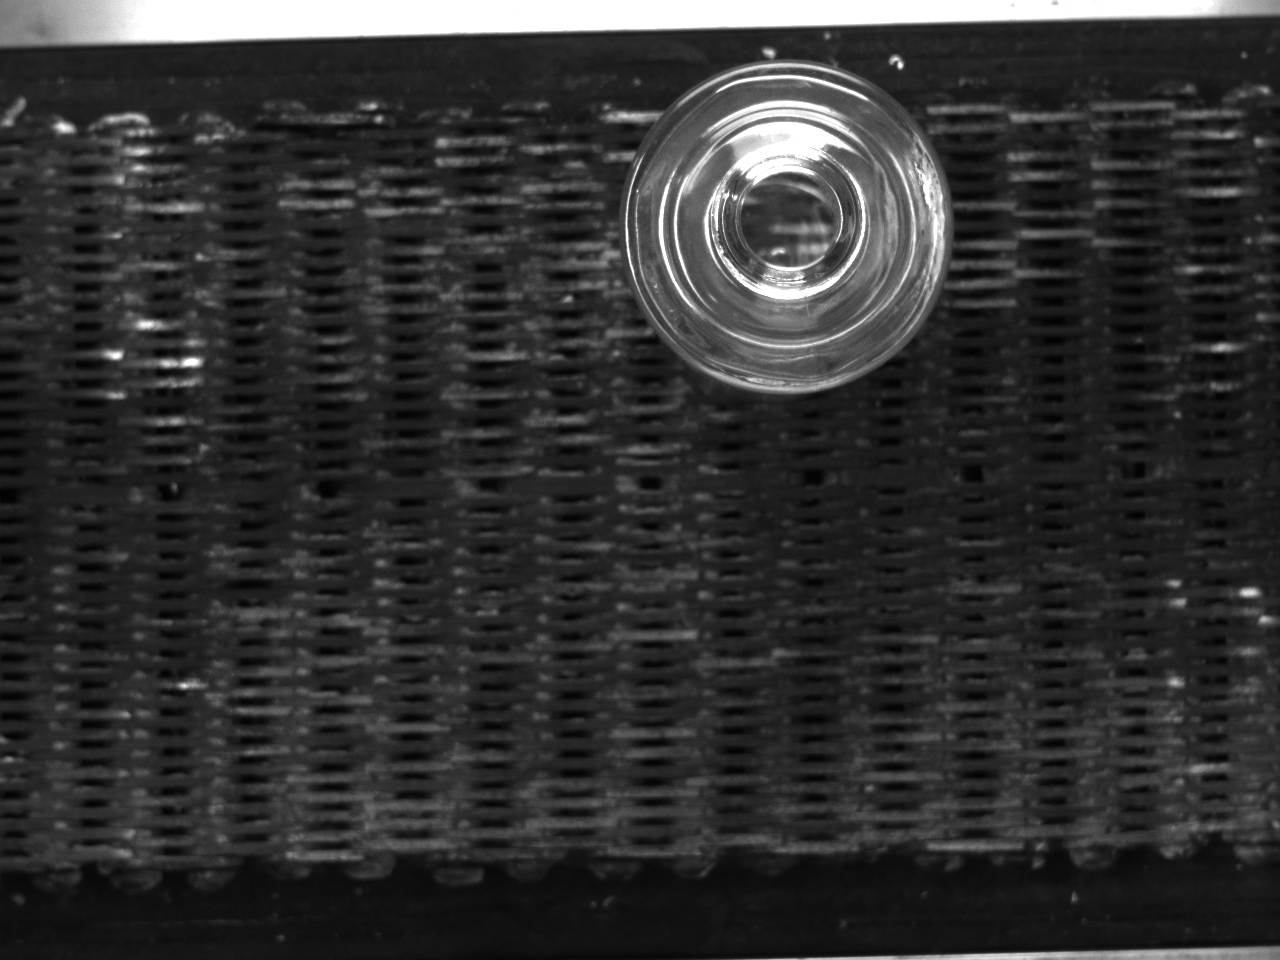bottleneck: (708, 145, 867, 298)
